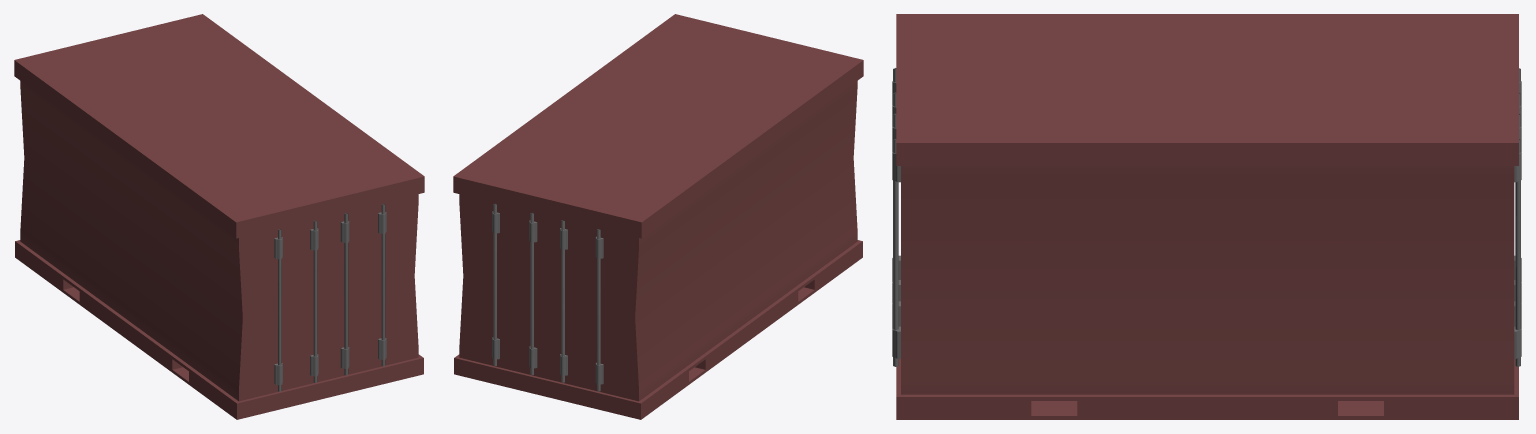
File: shipping container.fbx
3 views of the same model, side by side, from view 1: azimuth 30°, elevation 25°; view 2: azimuth 150°, elevation 25°; view 3: azimuth 270°, elevation 25° (orthographic). The views are drawn at different scales.
Visible parts, largest first — view 1: pCylinder38; view 2: pCylinder38; view 3: pCylinder38.
Part boxes in pixels (x1,y1,x2,y2): pCylinder38: [14, 14, 424, 419]; pCylinder38: [453, 14, 863, 419]; pCylinder38: [892, 14, 1521, 419].
Size of the model in its own units: 9.99 by 10.01 by 20.58.
